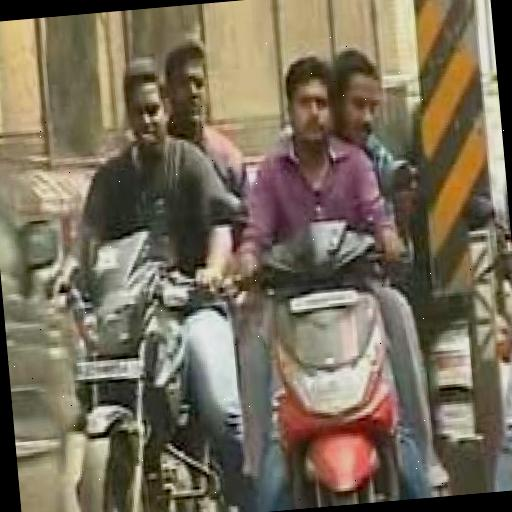no helmet: (208, 32, 412, 503), (39, 44, 207, 512)
